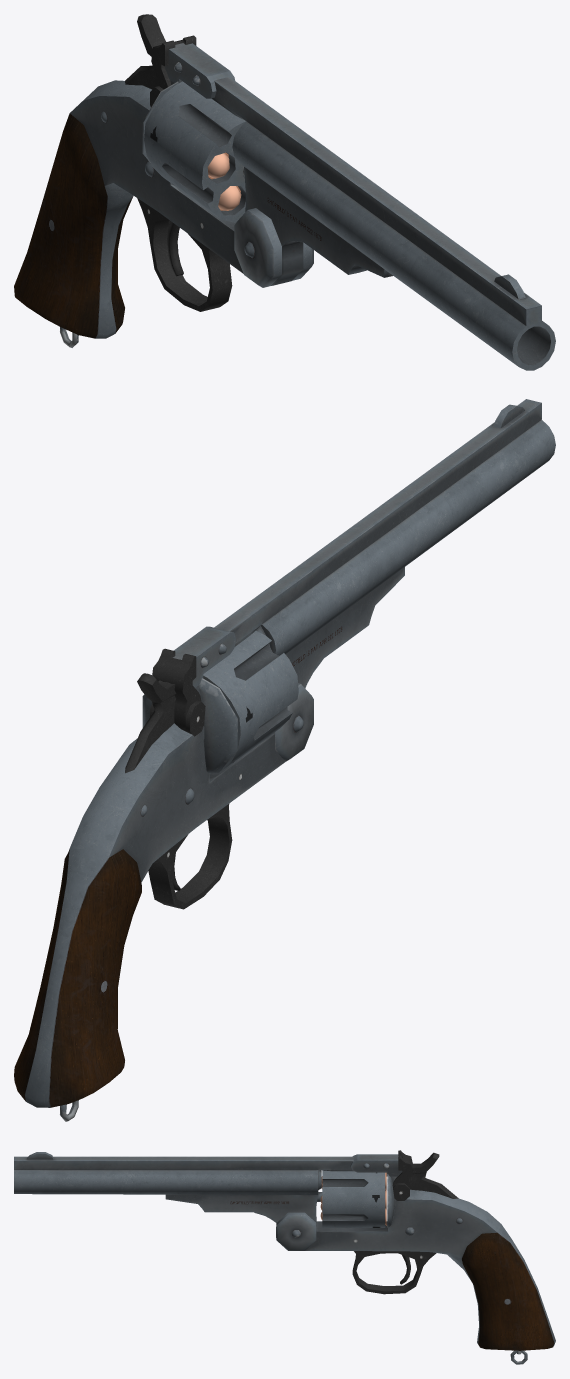
File: revolver.fbx
3 views of the same model, one above another, from view 1: azimuth 30°, elevation 25°; view 2: azimuth 150°, elevation 25°; view 3: azimuth 270°, elevation 25° (orthographic). The views are drawn at different scales.
Visible parts, largest first — view 1: REVOLVER_Cylinder.002; view 2: REVOLVER_Cylinder.002; view 3: REVOLVER_Cylinder.002.
Boxes of the visible parts, box(x1,y1,x2,y2) form: REVOLVER_Cylinder.002: box(14, 14, 555, 370); REVOLVER_Cylinder.002: box(14, 399, 555, 1121); REVOLVER_Cylinder.002: box(14, 1150, 555, 1364).
Bounding box in the file's own units: 58.43 × 521 × 225.
1 material, 1 textured.
